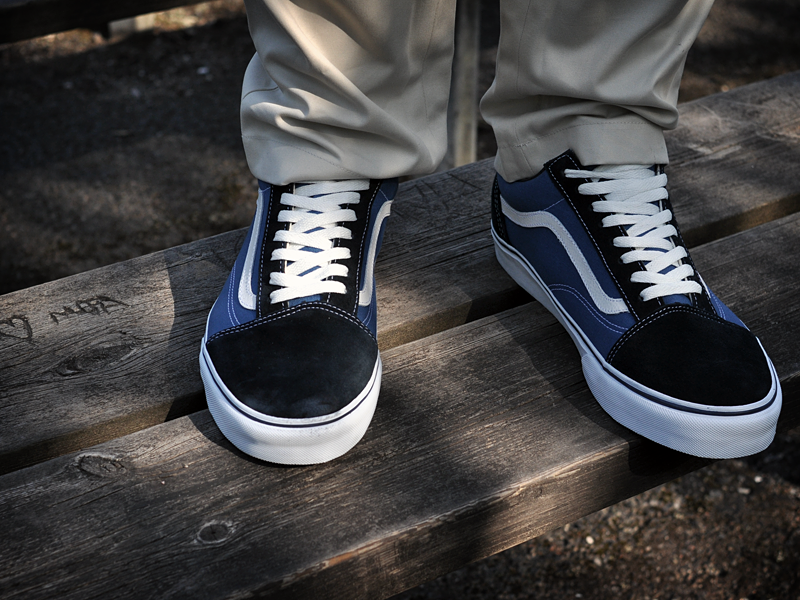Vans Old Skool Blue: (462, 127, 787, 465), (193, 164, 400, 472)
